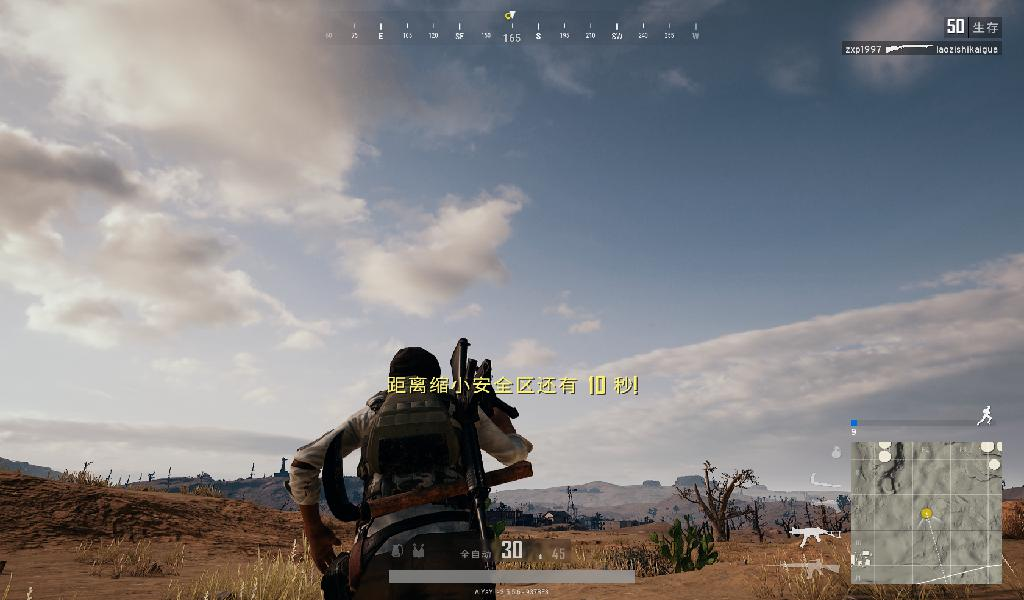Target Person: (280, 335, 537, 600)
